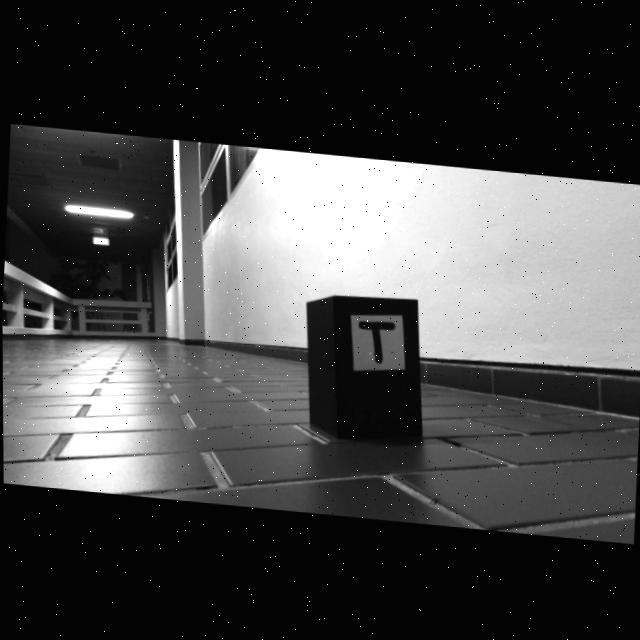T: (359, 318, 396, 359)
